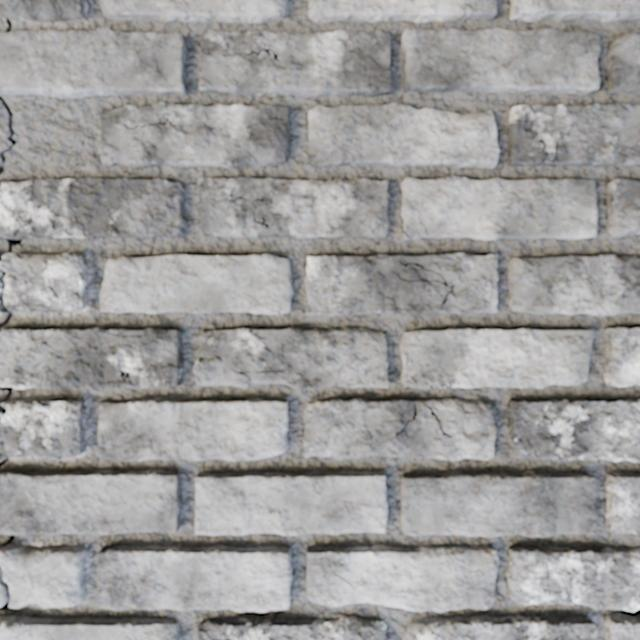brick: (0, 27, 186, 97), (402, 27, 599, 93), (99, 101, 289, 169), (401, 470, 596, 536), (98, 545, 291, 611), (306, 545, 497, 611), (200, 30, 390, 96), (309, 103, 498, 167), (401, 177, 596, 239), (196, 471, 387, 534), (98, 397, 288, 460), (194, 327, 388, 388), (305, 253, 497, 314), (303, 398, 495, 459), (401, 327, 593, 388), (0, 470, 181, 533), (198, 178, 388, 238), (100, 254, 292, 313), (0, 327, 182, 389), (0, 178, 187, 237), (507, 546, 639, 610), (507, 103, 639, 166), (508, 399, 639, 461), (508, 255, 639, 314), (403, 615, 596, 639), (198, 615, 386, 639), (0, 616, 181, 639), (100, 0, 287, 22), (308, 0, 496, 21), (510, 0, 639, 21), (606, 472, 639, 533), (605, 326, 639, 385), (607, 32, 639, 93), (607, 179, 639, 236), (605, 614, 639, 639)
broken_brick: (0, 543, 87, 609), (0, 399, 86, 460), (4, 252, 88, 313), (3, 0, 88, 23), (0, 587, 4, 605), (0, 306, 6, 313)
crack: (0, 95, 89, 174), (524, 118, 574, 164), (0, 238, 23, 328), (409, 371, 455, 389), (0, 563, 11, 611), (94, 327, 142, 338), (0, 0, 15, 32), (0, 386, 13, 414), (2, 534, 15, 547), (0, 457, 9, 466), (403, 230, 410, 239), (96, 588, 104, 595), (633, 262, 639, 270)
